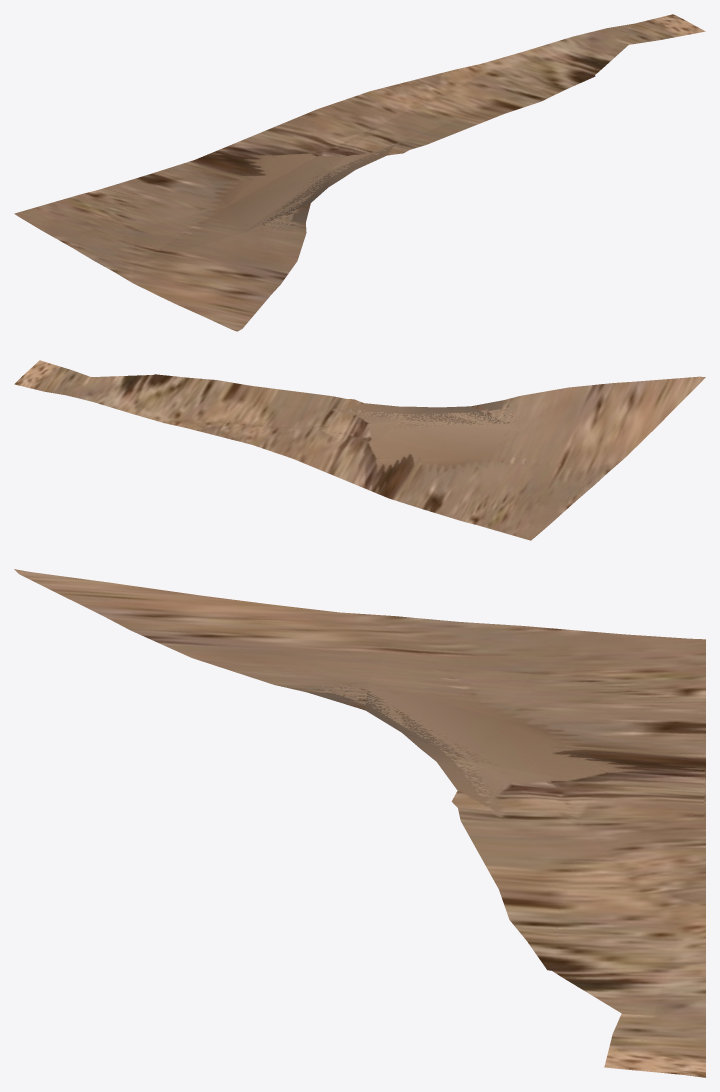
The picture shows the model from 3 angles, top to bottom: view 1: azimuth 30°, elevation 25°; view 2: azimuth 150°, elevation 25°; view 3: azimuth 270°, elevation 25°; orthographic projection. The views are drawn at different scales.
Bounding box in the file's own units: 2.09 × 0.1373 × 1.23.
Materials: 1 (1 with a texture image).
